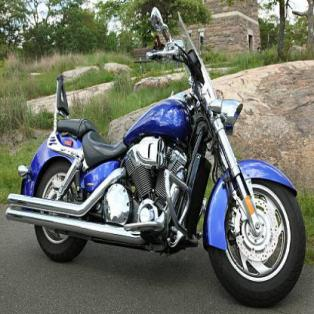Motocicleta: (5, 5, 307, 304)
